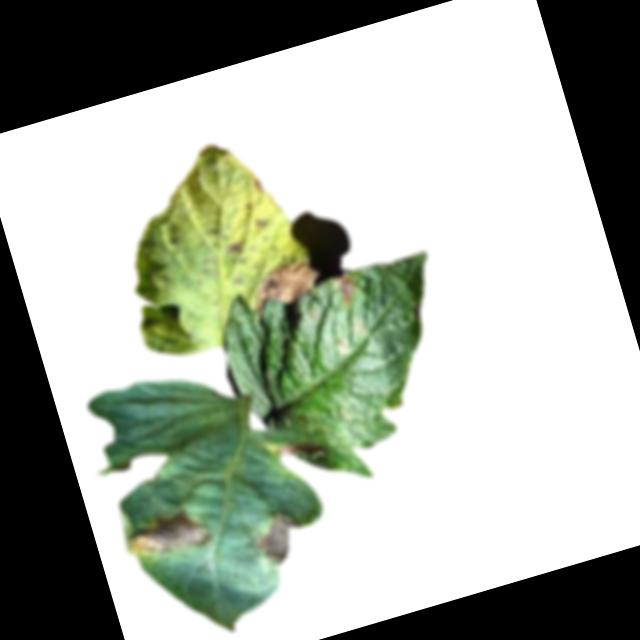Early_blight: (125, 499, 214, 568), (241, 255, 323, 315), (245, 503, 309, 569), (274, 434, 329, 470), (334, 272, 362, 308), (226, 241, 242, 253)
